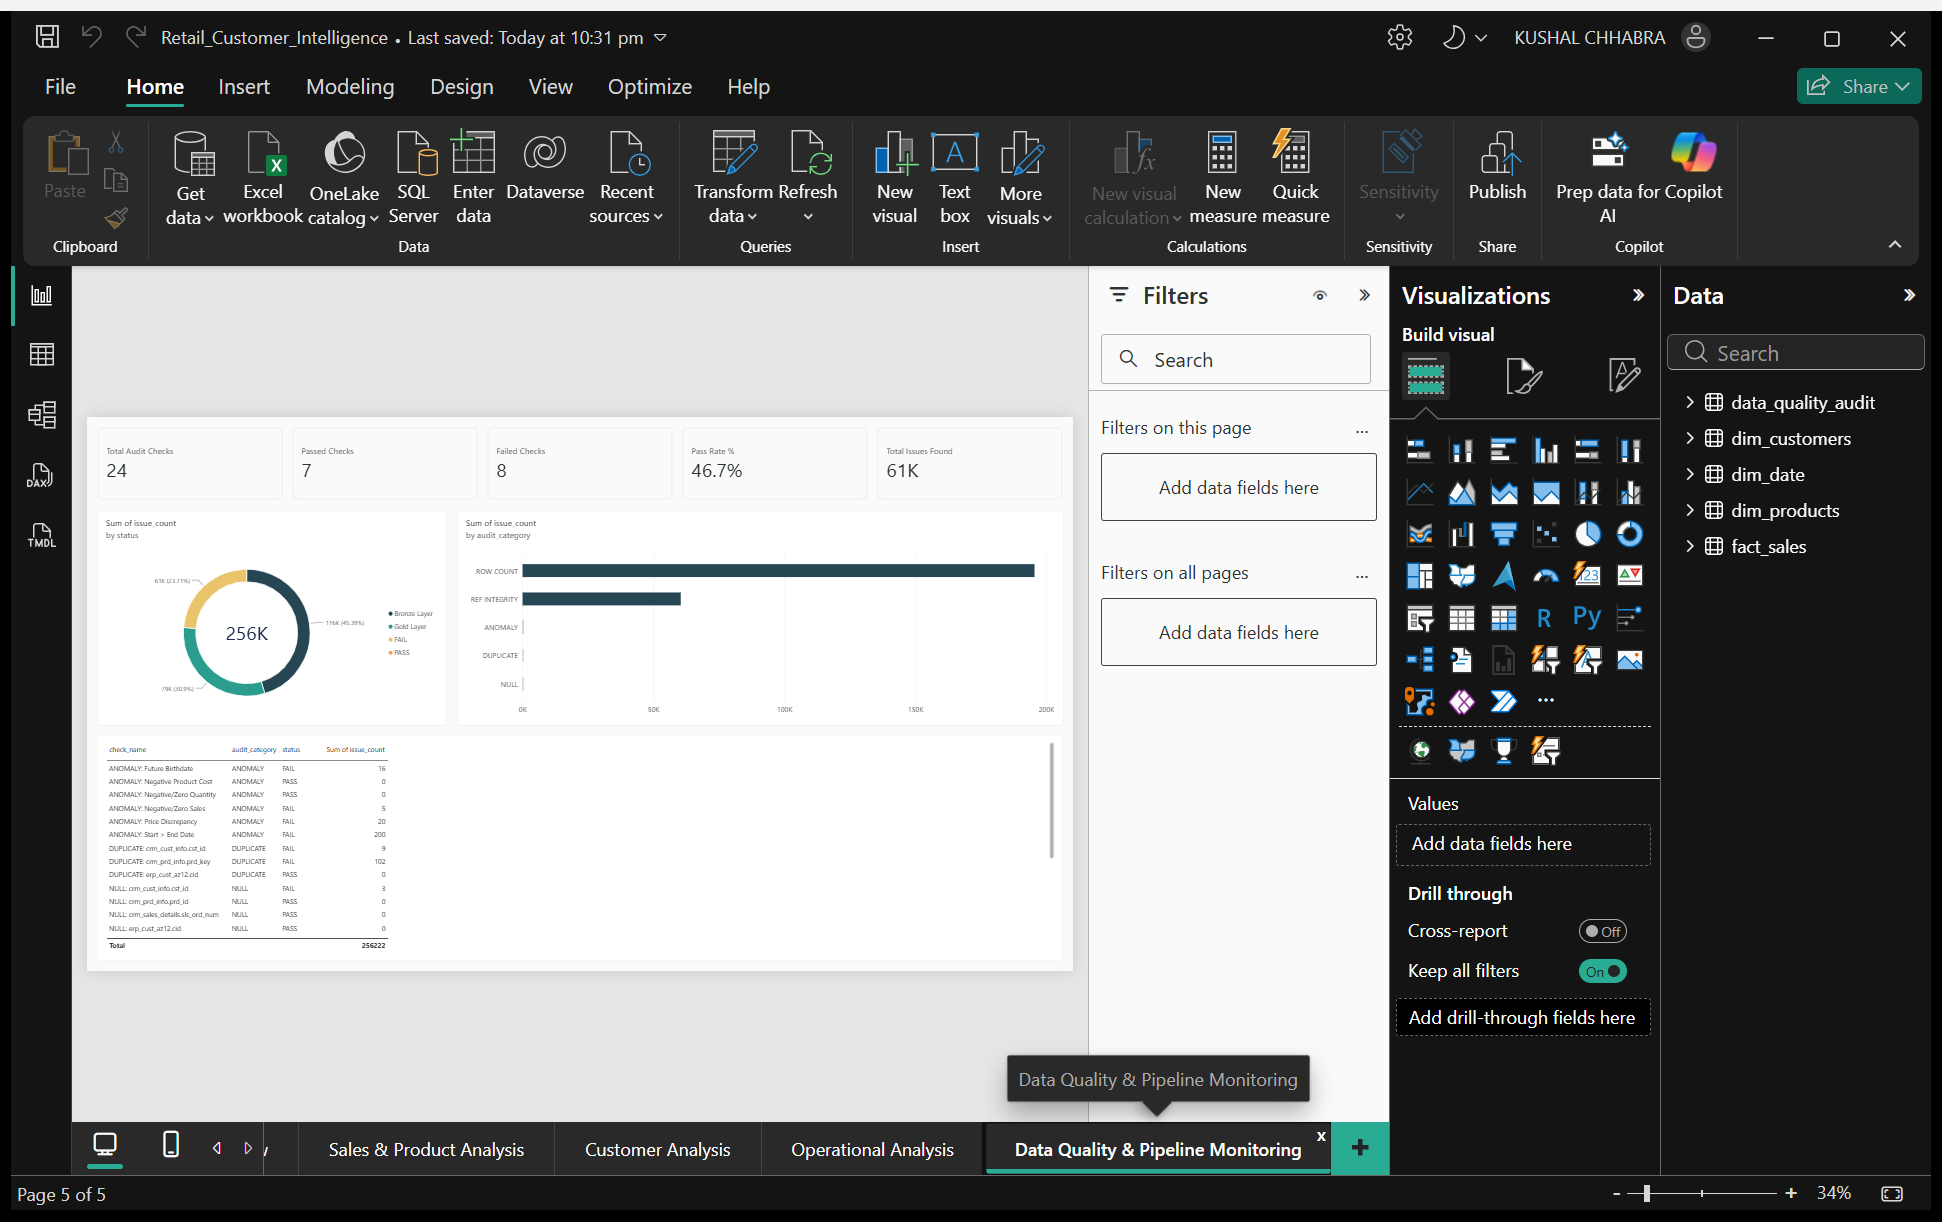

This screenshot's page, from the dashboard's own definition file:
{"tool":"powerbi","page":{"name":"Data Quality & Pipeline Monitoring","canvas":[1920,1080],"ordinal":4},"visuals":[{"type":"cardVisual","fields":{"Data":["data_quality_audit.Total Audit Checks"]},"box":[20,20,360,140],"z":0},{"type":"cardVisual","fields":{"Data":["data_quality_audit.Passed Checks"]},"box":[400,20,360,140],"z":1},{"type":"cardVisual","fields":{"Data":["data_quality_audit.Failed Checks"]},"box":[780,20,360,140],"z":2},{"type":"cardVisual","fields":{"Data":["data_quality_audit.Pass Rate %"]},"box":[1160,20,360,140],"z":3},{"type":"cardVisual","fields":{"Data":["data_quality_audit.Total Issues Found"]},"box":[1540,20,360,140],"z":4},{"type":"donutChart","fields":{"Category":["data_quality_audit.status"],"Y":["Sum(data_quality_audit.issue_count)"]},"box":[20,180,680,420],"z":5},{"type":"barChart","fields":{"Category":["data_quality_audit.audit_category"],"Y":["Sum(data_quality_audit.issue_count)"]},"box":[720,180,1180,420],"z":6},{"type":"tableEx","fields":{"Values":["data_quality_audit.check_name","data_quality_audit.audit_category","data_quality_audit.status","Sum(data_quality_audit.issue_count)"]},"box":[20,620,1880,440],"z":7}]}

Visuals, with their boxes on the page's 1920x1080 design canvas (x1, y1, x2, y2). These are canvas units, not pixel positions in the 1942x1222 screenshot, which may show the page scaled, cropped or inside an application window:
cardVisual - data_quality_audit.Total Audit Checks: [20,20,380,160]
cardVisual - data_quality_audit.Passed Checks: [400,20,760,160]
cardVisual - data_quality_audit.Failed Checks: [780,20,1140,160]
cardVisual - data_quality_audit.Pass Rate %: [1160,20,1520,160]
cardVisual - data_quality_audit.Total Issues Found: [1540,20,1900,160]
donutChart - data_quality_audit.status x Sum(data_quality_audit.issue_count): [20,180,700,600]
barChart - data_quality_audit.audit_category x Sum(data_quality_audit.issue_count): [720,180,1900,600]
tableEx - data_quality_audit.check_name x data_quality_audit.audit_category: [20,620,1900,1060]
